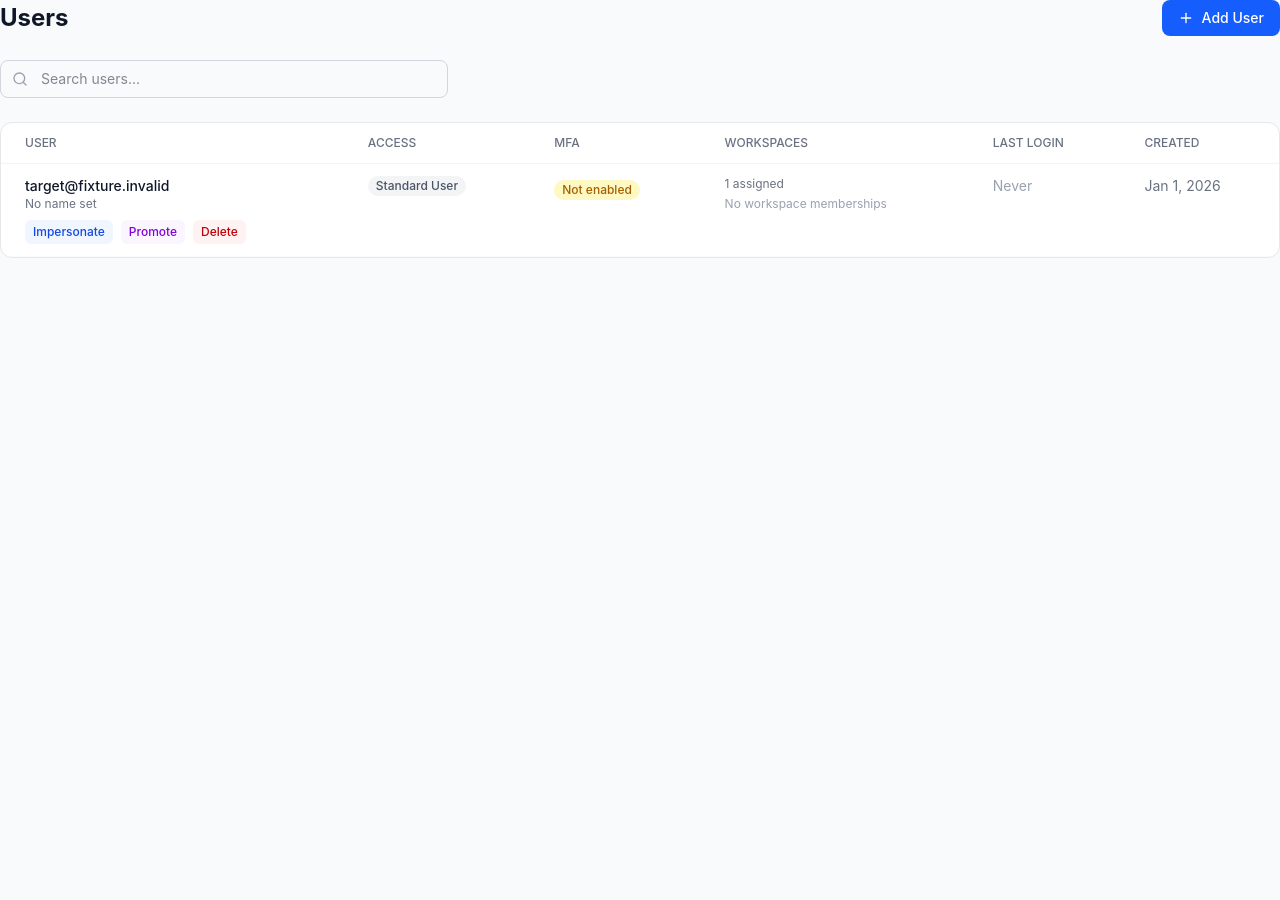
Test case: superadmin deletion preflight › requires a successful preflight and every applicable explicit confirmation
The width and height of the screenshot is (1280, 900).
Later steps or results of the test are not shown.
Click the button "Delete" at (220, 232), box [193,220,246,244]
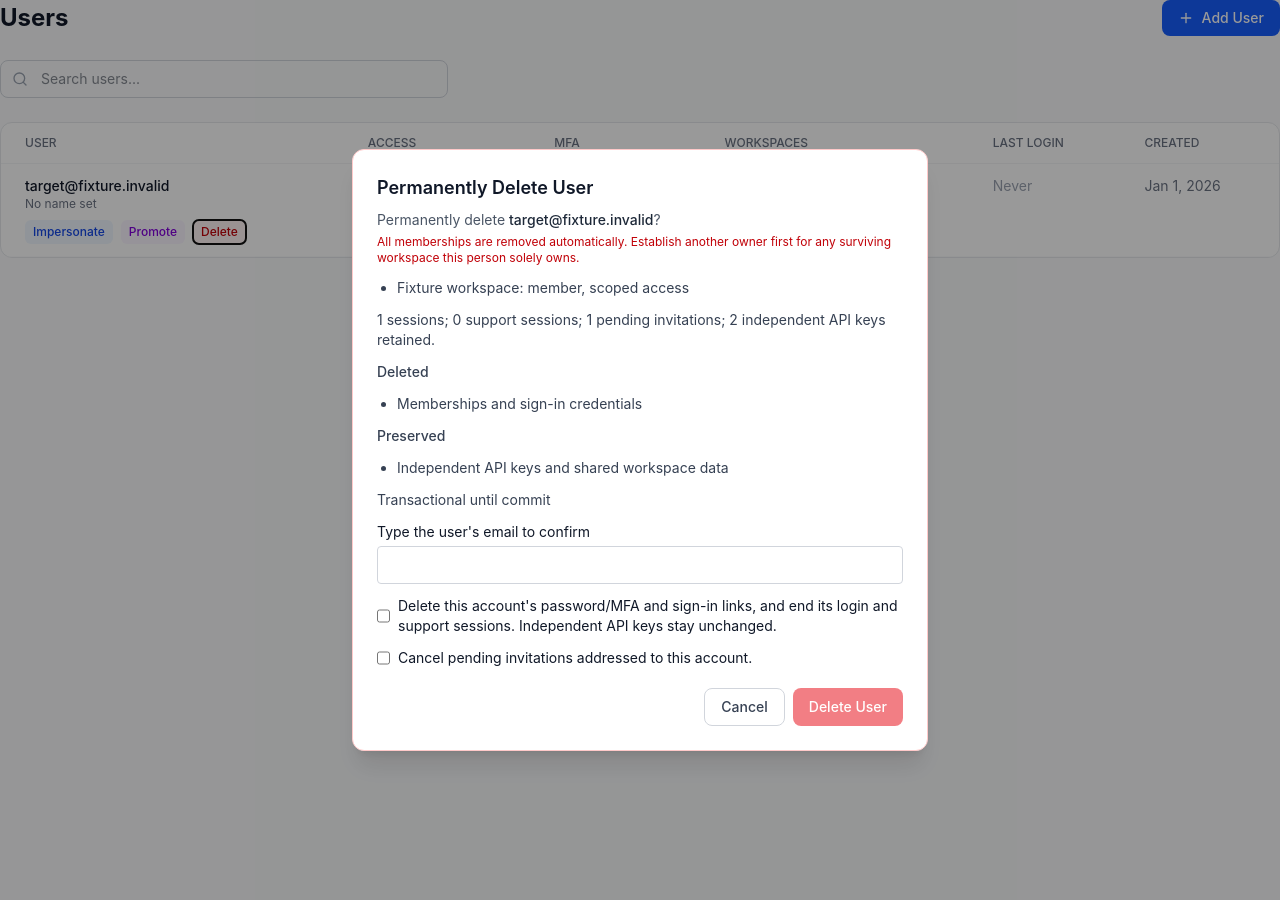
Now the list item "Fixture workspace: member, scoped access" is shown, box [397,279,689,296]
Now the button "Delete User" is disabled, box [793,688,903,726]
Type "target@fixture.invalid" into the field labelled "Type the user's email to confirm" at (640, 565), box [377,546,903,584]
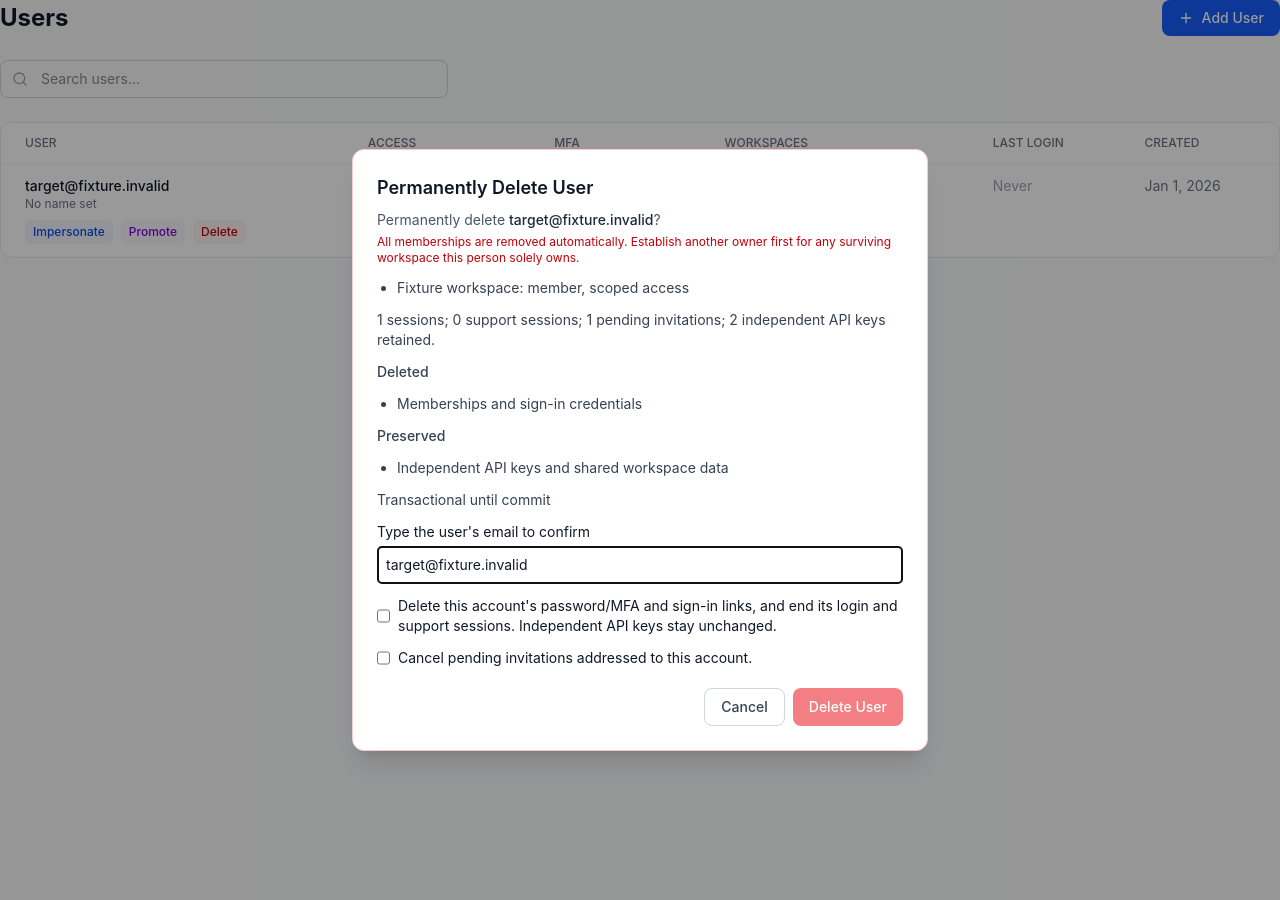
Click the checkbox labelled "Delete this account's password" at (384, 616), box [377,596,390,636]
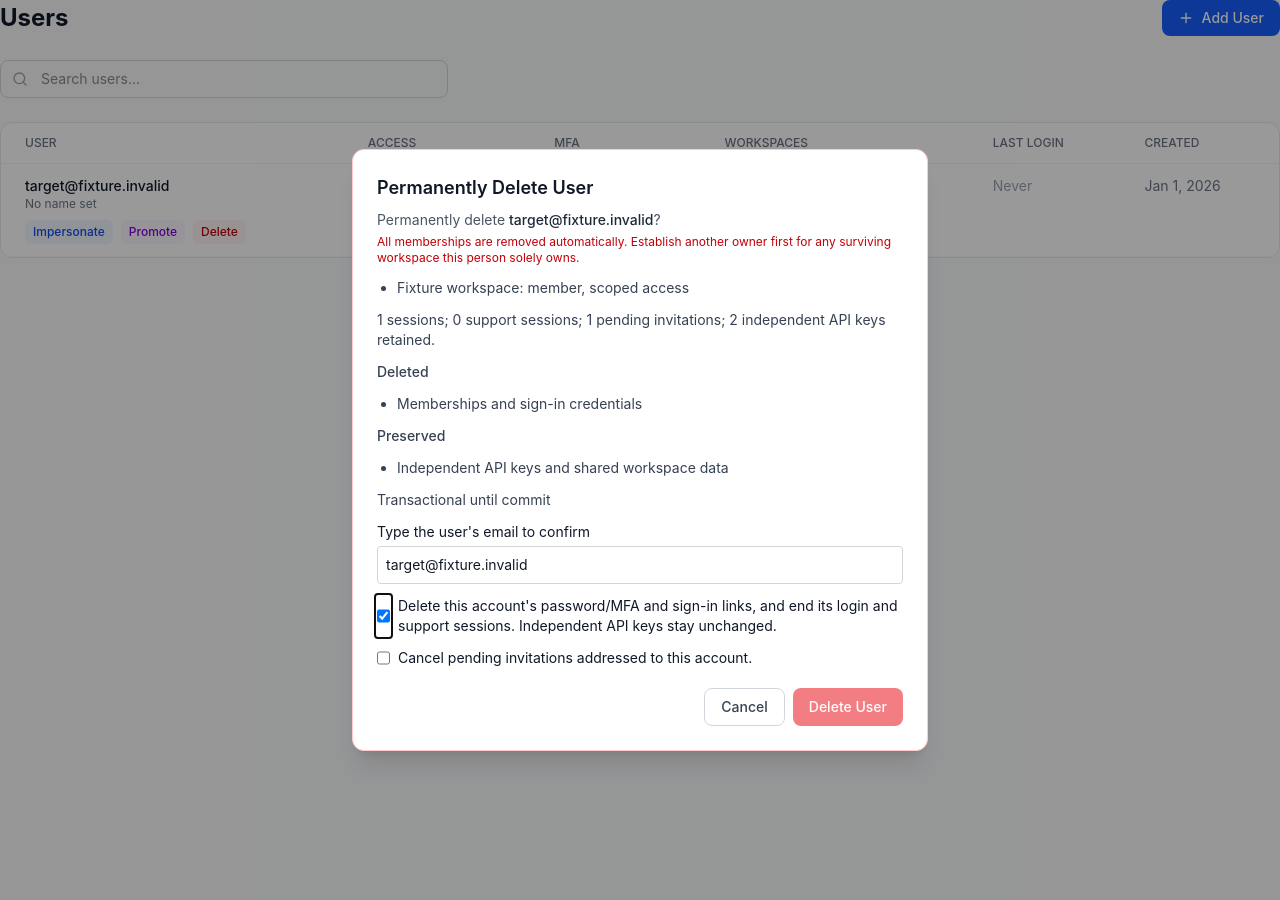
Now the button "Delete User" is disabled, box [793,688,903,726]
Click the checkbox labelled "Cancel pending invitations addressed to this account." at (384, 658), box [377,648,390,668]
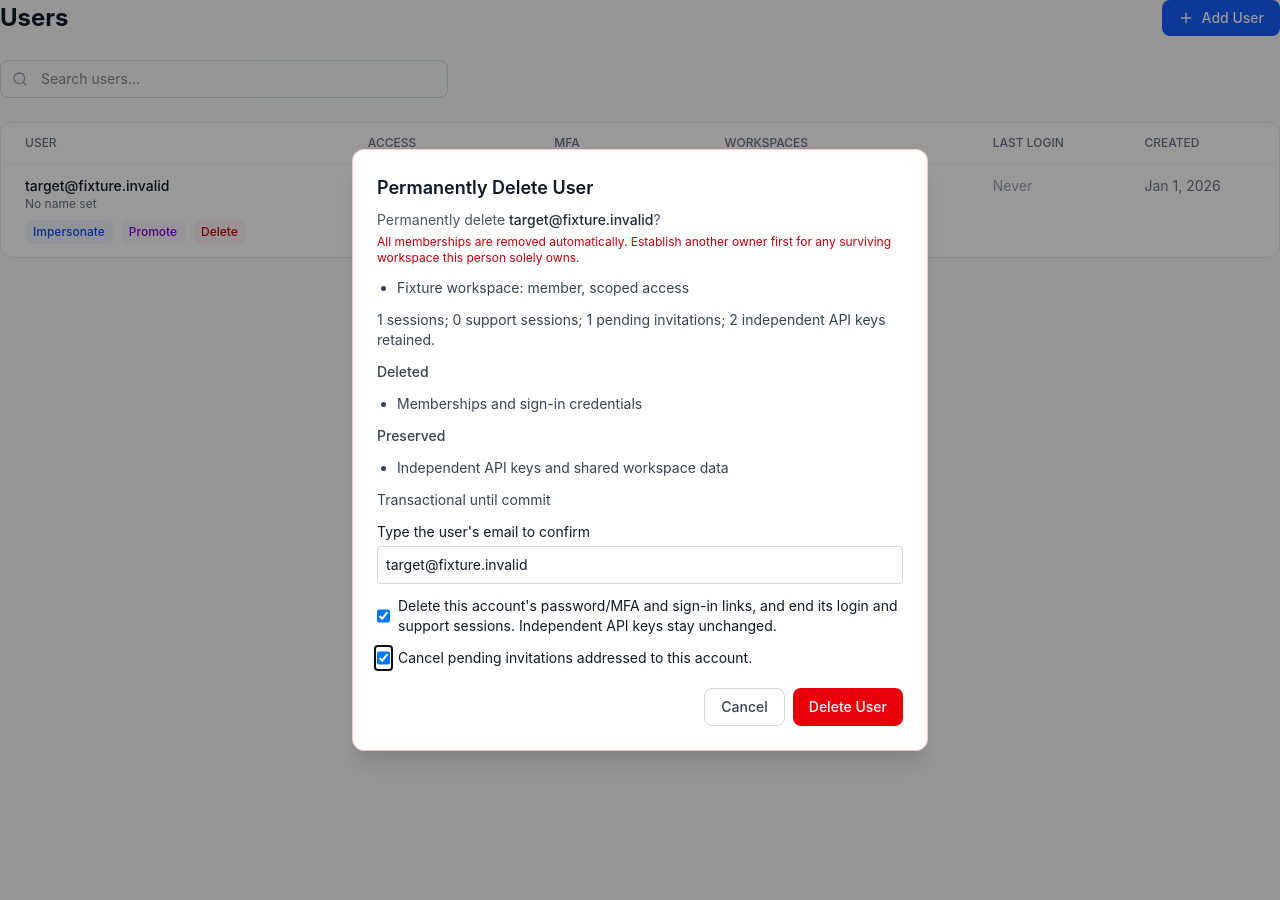
Now the button "Delete User" is enabled, box [793,688,903,726]
